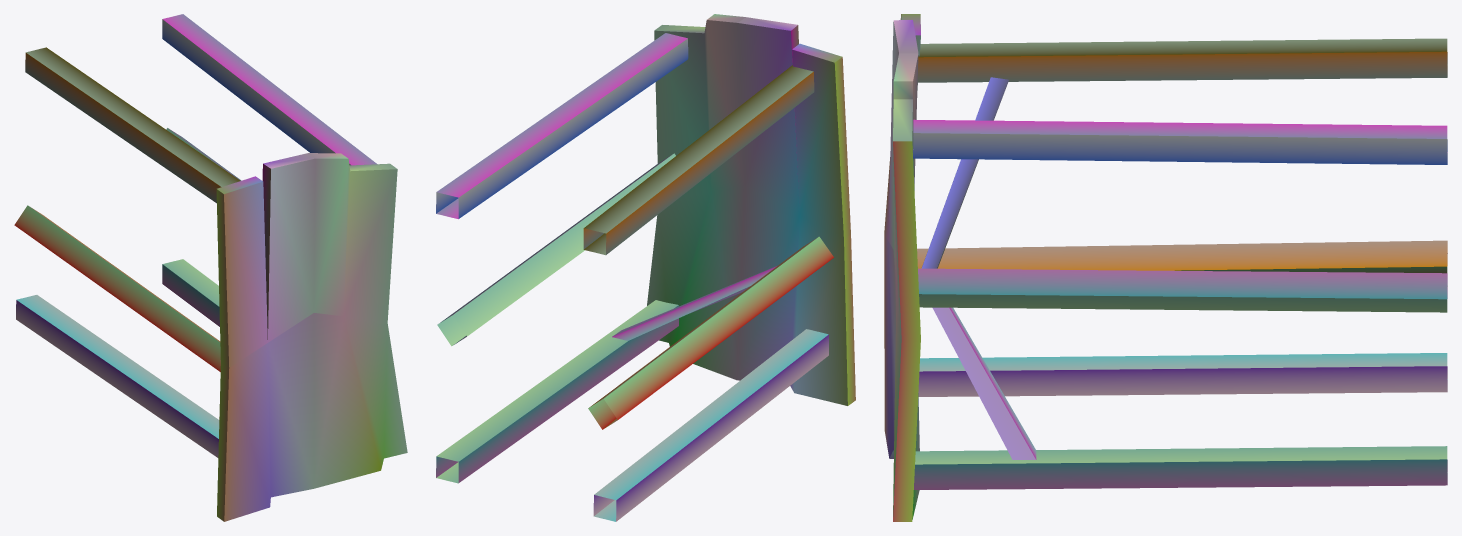
Rendered from Dock_A.glb.
The picture shows the model from 3 angles, left to right: view 1: azimuth 30°, elevation 25°; view 2: azimuth 150°, elevation 25°; view 3: azimuth 270°, elevation 25°; orthographic projection. The views are drawn at different scales.
Parts seen in each view (by area): view 1: MeshNode_0; view 2: MeshNode_0; view 3: MeshNode_0.
Boxes of the visible parts, x1,y1,x2,y2 form: MeshNode_0: (14, 14, 407, 521); MeshNode_0: (436, 14, 855, 521); MeshNode_0: (884, 14, 1447, 521).
Bounding box in the file's own units: 4.98 × 8.63 × 9.97.
